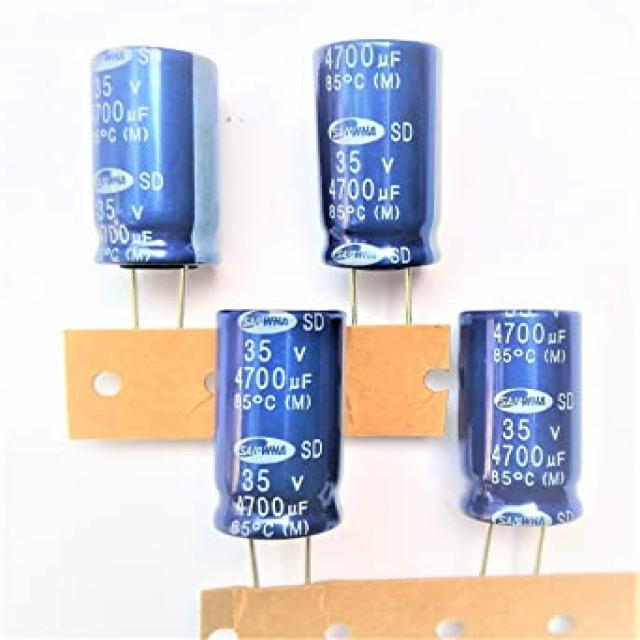Capacitor: (91, 49, 219, 328), (315, 40, 438, 324), (215, 309, 343, 539), (459, 310, 582, 526)
